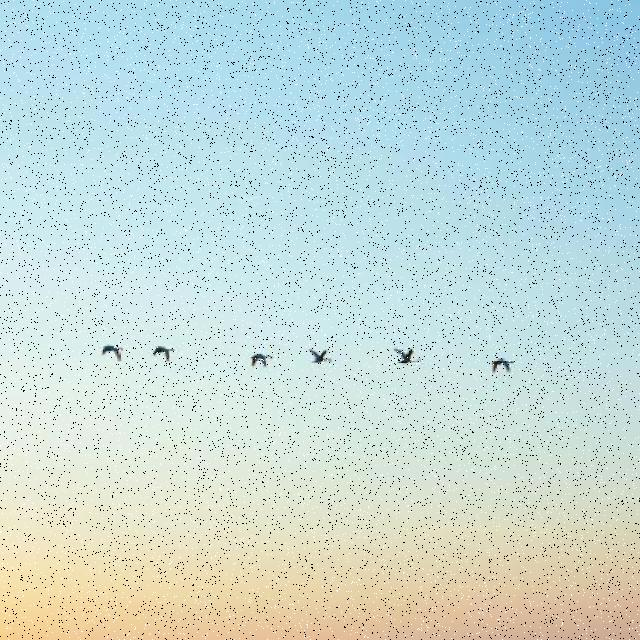bird: (394, 346, 422, 364), (102, 344, 125, 362), (250, 353, 273, 369), (154, 346, 176, 362), (492, 358, 514, 374), (310, 348, 332, 363)
